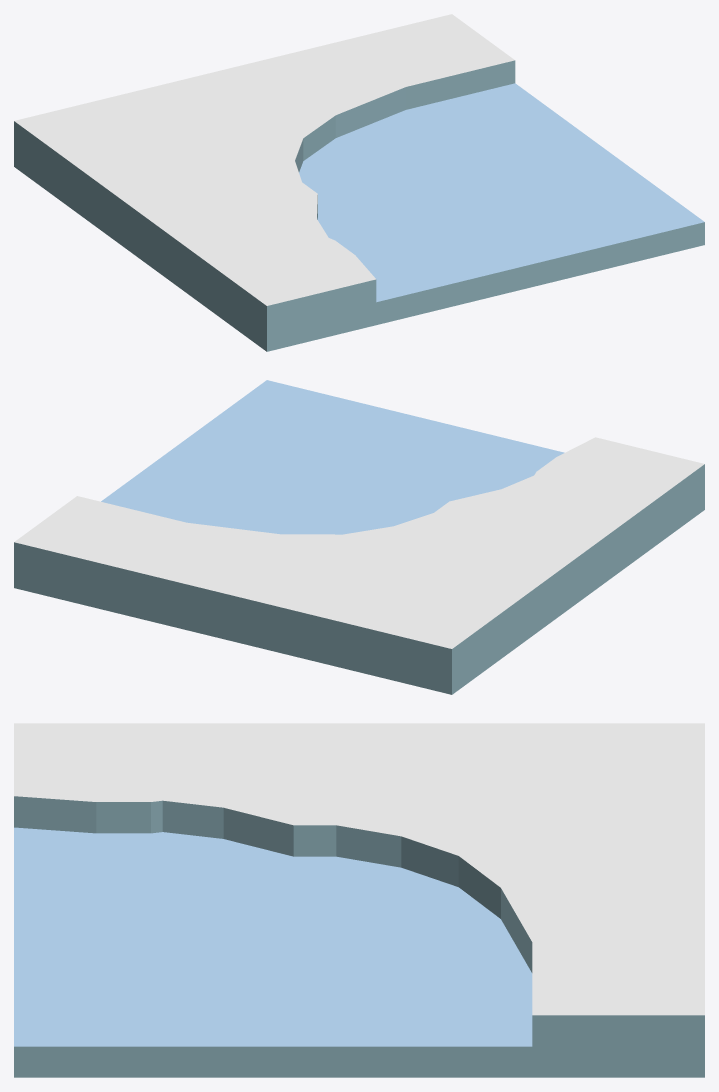
Rendered from Terrain_Modular_Tiles_Snow_Ice_Water_Edge_Corner_Outer_03.fbx.
The picture shows the model from 3 angles, top to bottom: view 1: azimuth 30°, elevation 25°; view 2: azimuth 150°, elevation 25°; view 3: azimuth 270°, elevation 25°; orthographic projection. The views are drawn at different scales.
Visible parts, largest first — view 1: Terrain_Modular_Tiles_Snow_Ice_Water_Edge_Corner_Outer_03; view 2: Terrain_Modular_Tiles_Snow_Ice_Water_Edge_Corner_Outer_03; view 3: Terrain_Modular_Tiles_Snow_Ice_Water_Edge_Corner_Outer_03.
Part boxes in pixels (bbox=[...]): Terrain_Modular_Tiles_Snow_Ice_Water_Edge_Corner_Outer_03: bbox=[14, 14, 704, 351]; Terrain_Modular_Tiles_Snow_Ice_Water_Edge_Corner_Outer_03: bbox=[14, 380, 704, 694]; Terrain_Modular_Tiles_Snow_Ice_Water_Edge_Corner_Outer_03: bbox=[14, 723, 704, 1077].
Size of the model in its own units: 3000 by 300 by 3000.
